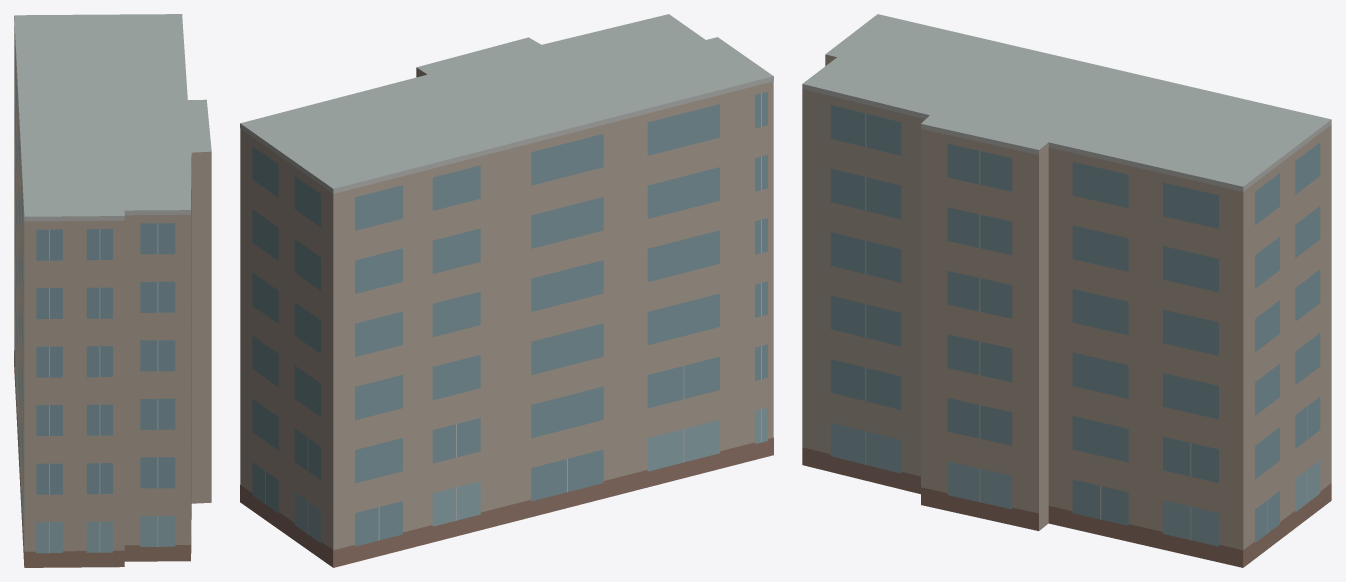
File: survey-upis-32921721.glb
The picture shows the model from 3 angles, left to right: view 1: azimuth 30°, elevation 25°; view 2: azimuth 150°, elevation 25°; view 3: azimuth 270°, elevation 25°; orthographic projection. The views are drawn at different scales.
Visible parts, largest first — view 1: survey-upis-32921721.tmp; view 2: survey-upis-32921721.tmp; view 3: survey-upis-32921721.tmp.
Part boxes in pixels (x1,y1,x2,y2): survey-upis-32921721.tmp: (14,14,211,567); survey-upis-32921721.tmp: (240,14,773,567); survey-upis-32921721.tmp: (802,14,1331,567).
Size of the model in its own units: 17.8 by 18.3 by 23.04.
